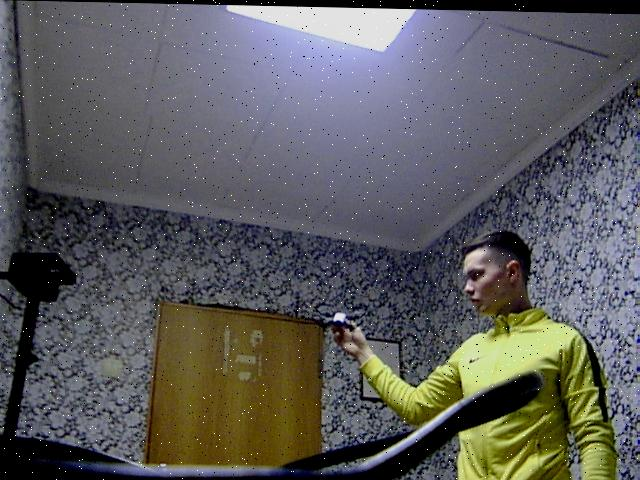drone: (309, 289, 379, 339)
